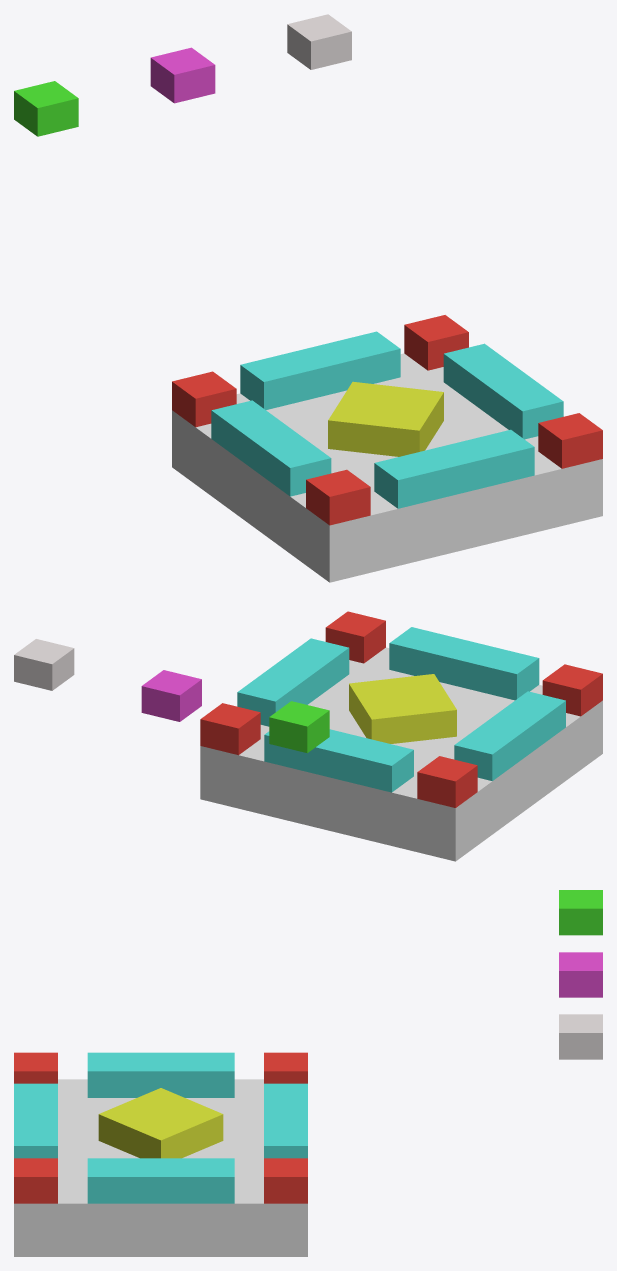
Rendered from vitrail.glb.
3 views of the same model, one above another, from view 1: azimuth 30°, elevation 25°; view 2: azimuth 150°, elevation 25°; view 3: azimuth 270°, elevation 25° (orthographic). The views are drawn at different scales.
Parts seen in each view (by area): view 1: workbench, rectangleBottom, rectangleTop, losange, rectangleLeft, rectangleRight, purple, cubeBottomLeft, green, white, cubeBottomRight, cubeTopLeft (+1 smaller); view 2: workbench, rectangleBottom, losange, rectangleLeft, rectangleTop, rectangleRight, green, purple, white, cubeTopRight, cubeTopLeft, cubeBottomLeft (+1 smaller); view 3: workbench, rectangleRight, rectangleLeft, losange, rectangleBottom, rectangleTop, green, purple, white, cubeBottomRight, cubeTopRight, cubeBottomLeft (+1 smaller).
Part boxes in pixels (x1,y1,x2,y2): workbench: (172, 353, 602, 582); rectangleBottom: (374, 429, 534, 508); rectangleTop: (240, 331, 400, 409); losange: (328, 381, 443, 456); rectangleLeft: (211, 400, 331, 496); rectangleRight: (443, 343, 563, 439); purple: (150, 47, 215, 103); cubeBottomLeft: (306, 469, 370, 525); green: (14, 81, 78, 136); white: (287, 14, 351, 69); cubeBottomRight: (538, 413, 602, 468); cubeTopLeft: (172, 371, 236, 427); workbench: (200, 647, 602, 861); rectangleBottom: (389, 627, 539, 700); losange: (349, 674, 456, 743); rectangleLeft: (454, 691, 565, 780); rectangleTop: (264, 729, 413, 792); rectangleRight: (237, 638, 349, 726); green: (269, 701, 329, 753); purple: (141, 670, 201, 721); white: (14, 639, 74, 690); cubeTopRight: (200, 703, 260, 755); cubeTopLeft: (417, 756, 477, 807); cubeBottomLeft: (542, 664, 602, 716); workbench: (14, 1079, 307, 1256); rectangleRight: (87, 1158, 234, 1203); rectangleLeft: (87, 1052, 234, 1097); losange: (98, 1088, 223, 1158); rectangleBottom: (14, 1083, 57, 1158); rectangleTop: (264, 1083, 307, 1158); green: (559, 890, 602, 935); purple: (559, 952, 602, 997); white: (559, 1014, 602, 1059); cubeBottomRight: (14, 1158, 57, 1203); cubeTopRight: (264, 1158, 307, 1203); cubeBottomLeft: (14, 1052, 57, 1083).
Bounding box in the file's own units: 1.15 × 0.9105 × 2.
